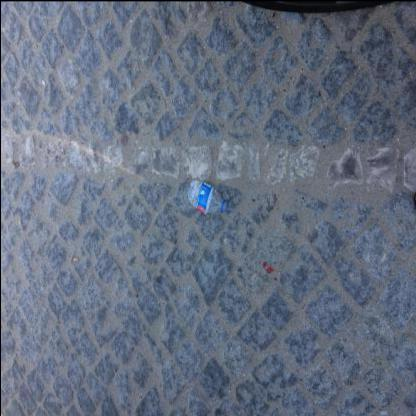Bottle cap: (187, 177, 226, 213)
Cigarette: (379, 410, 387, 414), (72, 256, 78, 261), (41, 78, 45, 85)
Other plastic: (196, 180, 212, 214)
